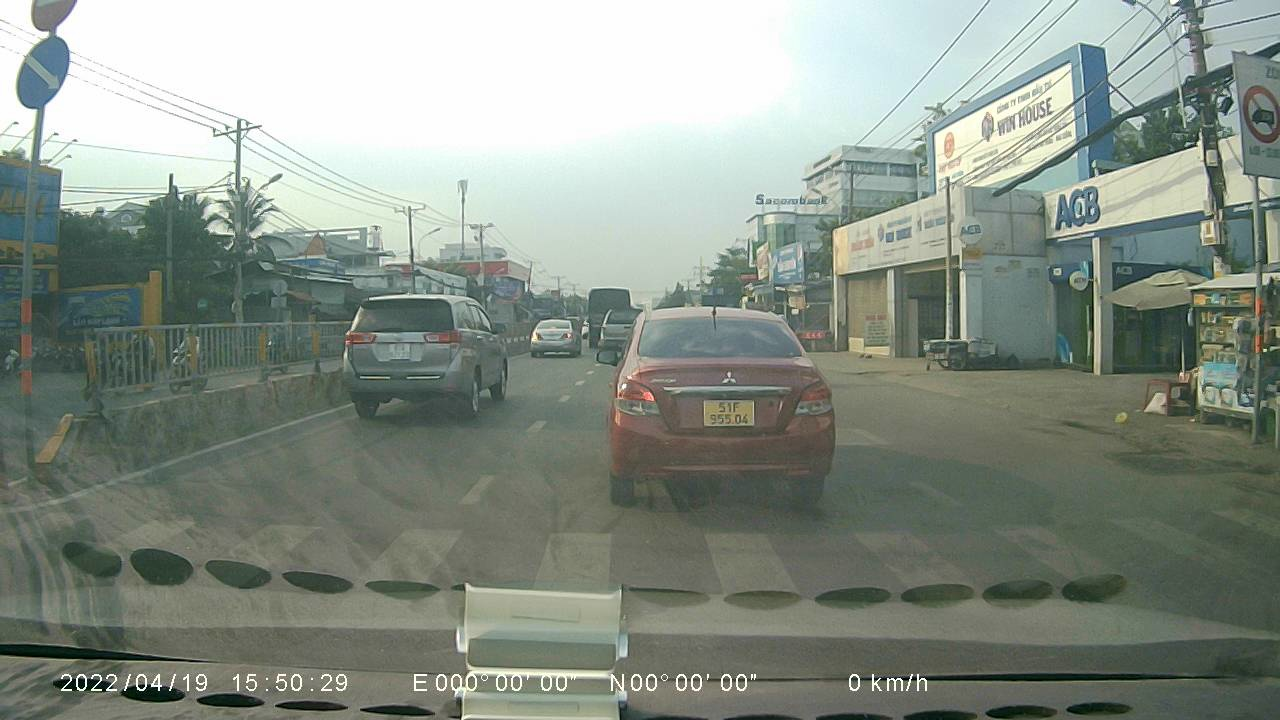Huong di phai re phai: (12, 35, 75, 108)
